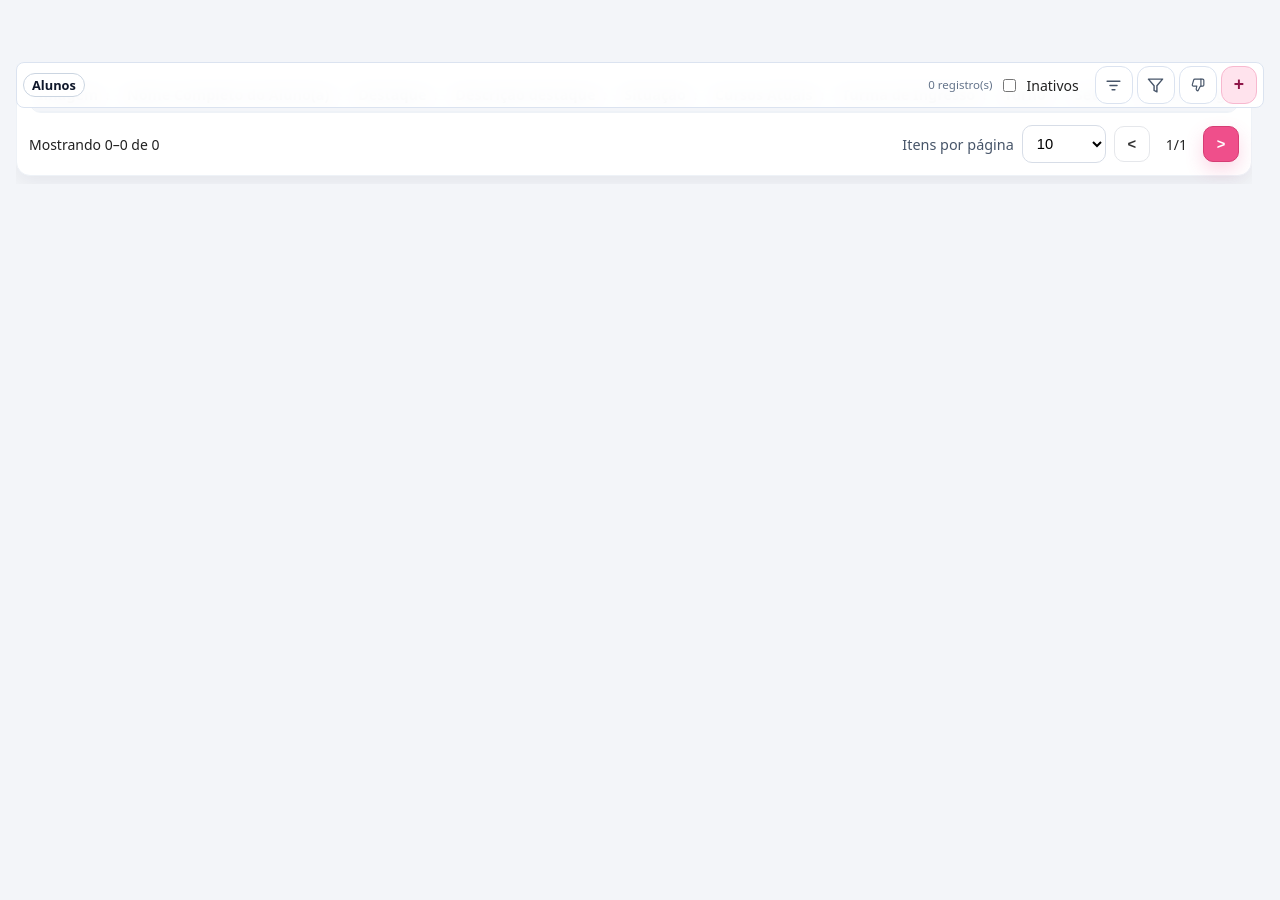
Test: Contrato de filtros da UI › alunos expõem os criterios de filtro esperados
This screenshot has width=1280, height=900.
Click the button named "Abrir filtros" at (1114, 85), box [1095,66,1133,104]
(page scrolled)
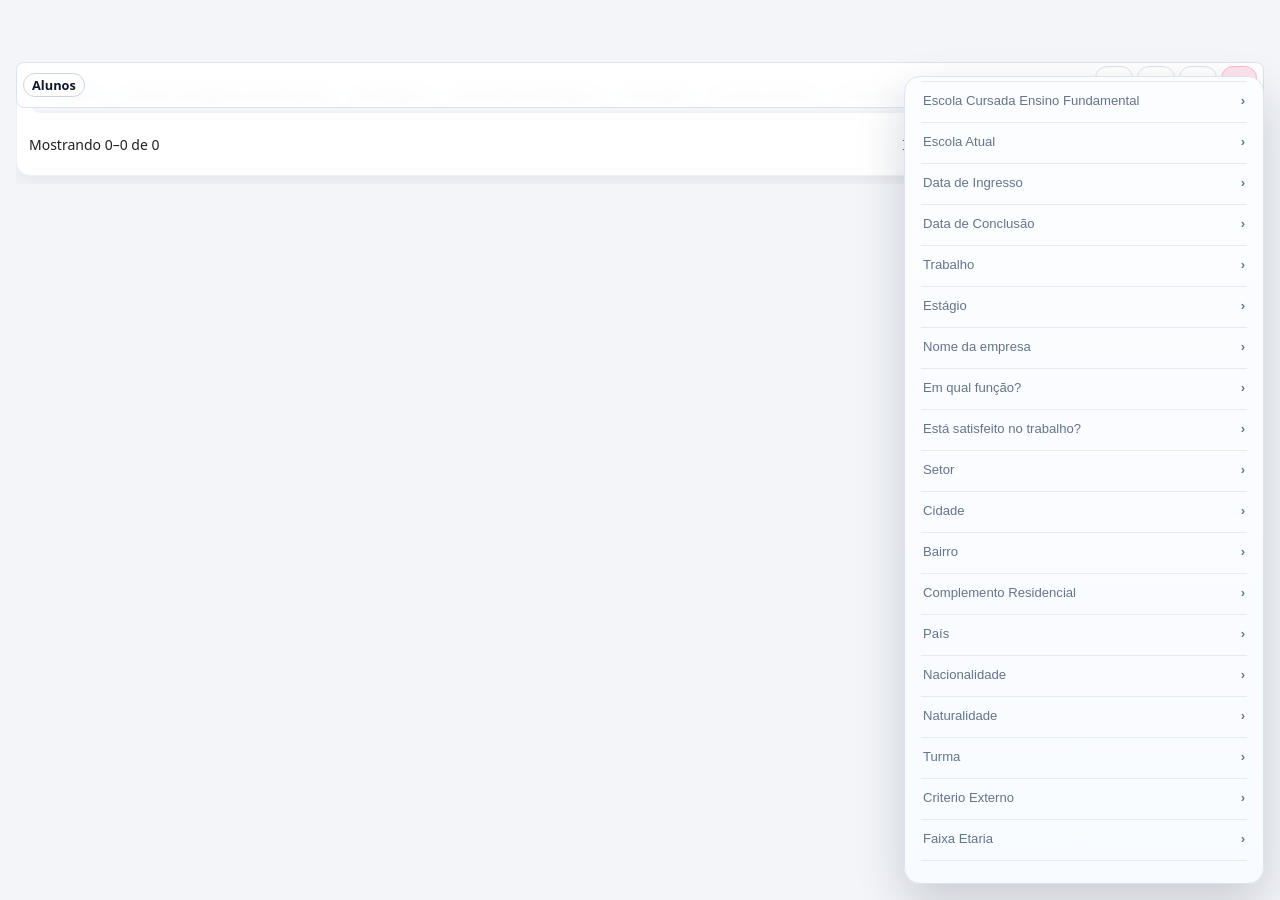
Expected: the button "Trabalho ›" is shown, [921,246,1247,287]
Expected: the button "Estágio ›" is shown, [921,287,1247,328]
Expected: the button "Setor ›" is shown, [921,451,1247,492]
